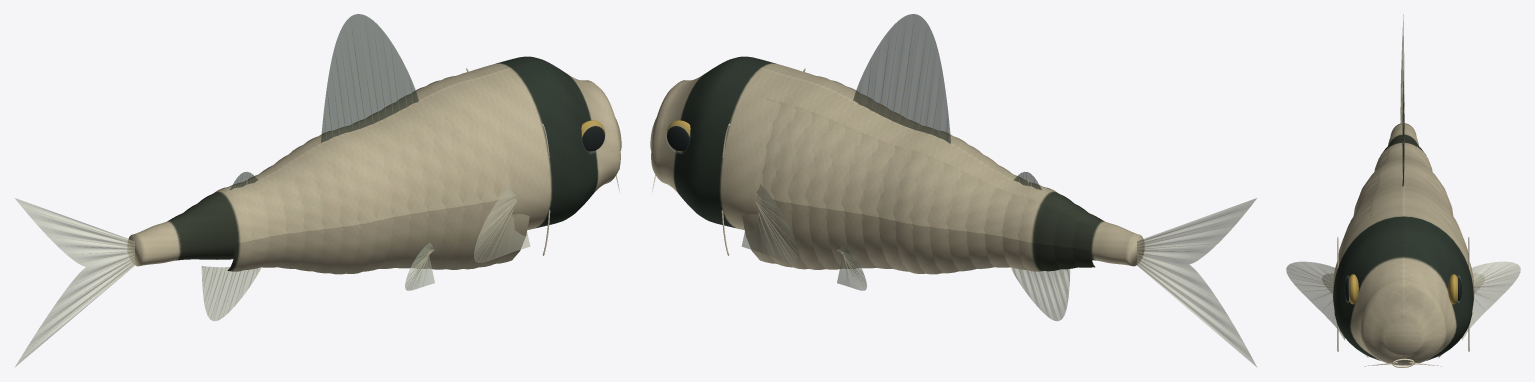
File: panda-desktop.glb
3 renders of one model, left to right at view 1: azimuth 30°, elevation 25°; view 2: azimuth 150°, elevation 25°; view 3: azimuth 270°, elevation 25°, orthographic. The views are drawn at different scales.
Visible parts, largest first — view 1: skin, dorsal, tail, dorsal-ray, pectoral-left, anal, pelvic-left; view 2: skin, dorsal, tail, dorsal-ray, pectoral-left, anal, pelvic-left; view 3: skin, pectoral-left, dorsal-ray, eye-iris--1, operculum, tail, dorsal.
Boxes of the visible parts, x1,y1,x2,y2 form: skin: (127,56,621,274); dorsal: (230,14,418,190); tail: (15,198,134,366); dorsal-ray: (25,15,517,352); pectoral-left: (474,184,529,262); anal: (201,266,261,321); pelvic-left: (405,243,434,290); skin: (650,56,1144,274); dorsal: (853,14,1041,189); tail: (1137,198,1257,367); dorsal-ray: (755,16,1248,351); pectoral-left: (742,184,797,262); anal: (1011,267,1070,321); pelvic-left: (837,243,866,290); skin: (1332,123,1474,365); pectoral-left: (1286,261,1520,339); dorsal-ray: (1289,27,1517,307); eye-iris--1: (1349,274,1457,304); operculum: (1337,237,1469,367); tail: (1400,14,1404,123); dorsal: (1402,71,1404,186).
Size of the model in its own units: 0.5972 by 0.2595 by 0.2335.
11 materials, 1 textured.
